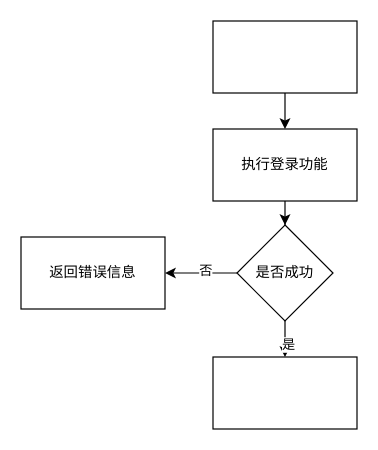
The diagram is 378 pixels wide and 450 high, and some of its shapes have lost their labels. The centre of each missing label's shape, as x and y in pixels:
点击登出: (284,56)
登出成功: (284,392)
